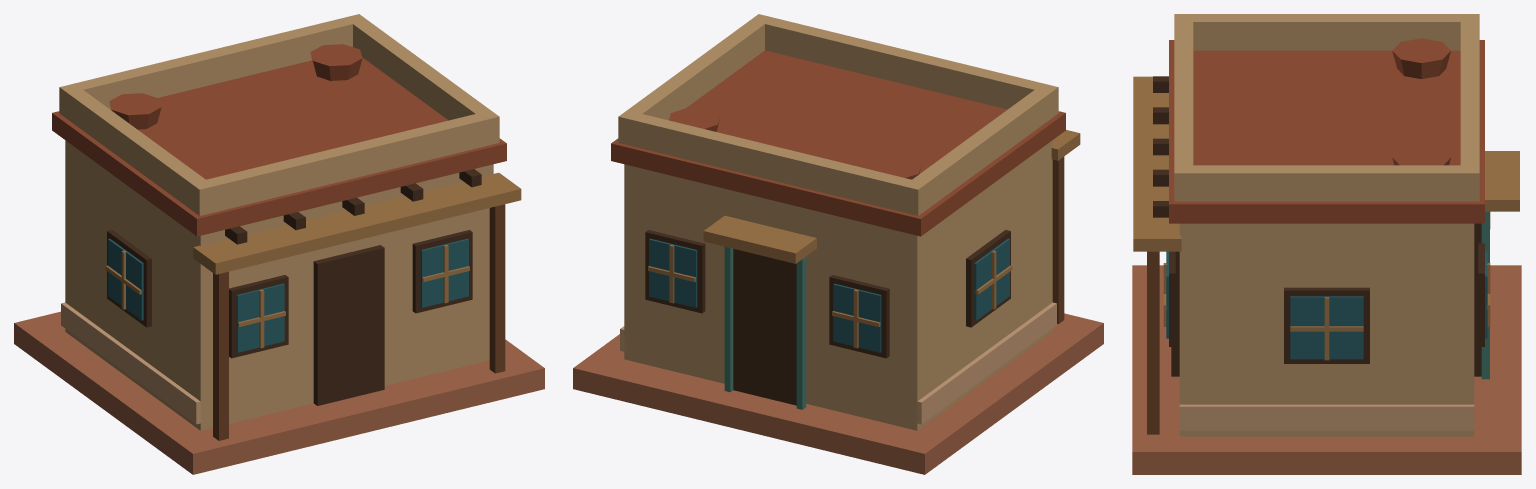
Rendered from Desert_AdobeHouse_Standard.glb.
3 renders of one model, left to right at view 1: azimuth 30°, elevation 25°; view 2: azimuth 150°, elevation 25°; view 3: azimuth 270°, elevation 25°, orthographic. The views are drawn at different scales.
Parts seen in each view (by area): view 1: Desert_AdobeHouse_Standard; view 2: Desert_AdobeHouse_Standard; view 3: Desert_AdobeHouse_Standard.
Part boxes in pixels (bbox=[...]): Desert_AdobeHouse_Standard: bbox=[14, 14, 544, 474]; Desert_AdobeHouse_Standard: bbox=[573, 14, 1103, 474]; Desert_AdobeHouse_Standard: bbox=[1132, 14, 1521, 474].
Size of the model in its own units: 4.2 by 3.02 by 3.7.
